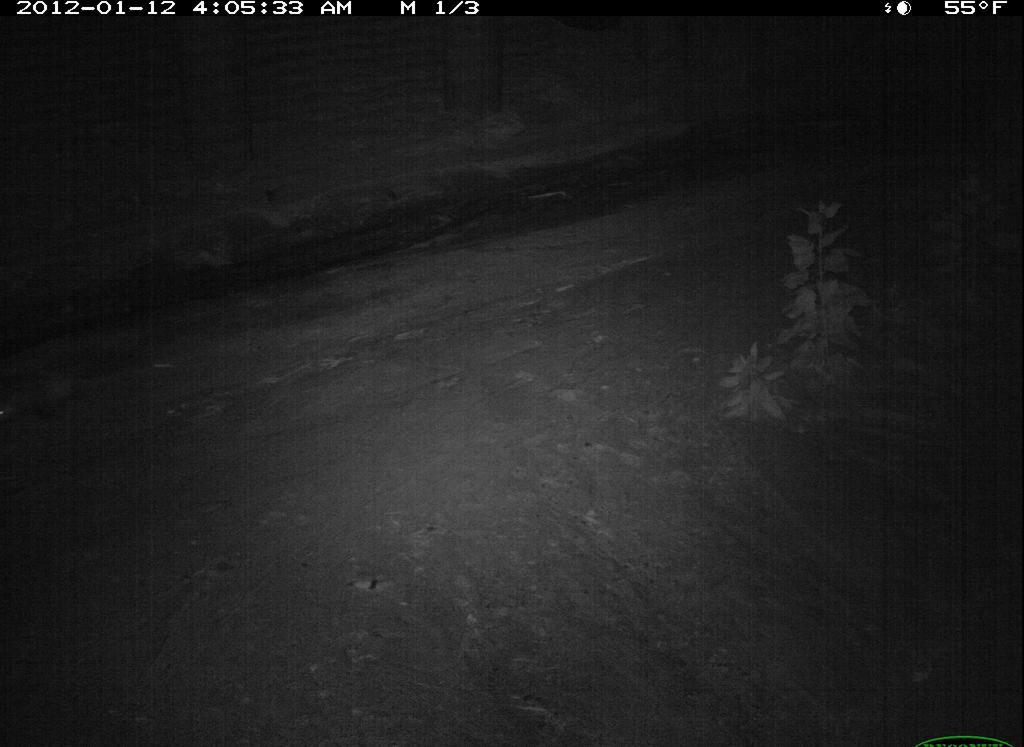opossum: (1, 359, 116, 439)
